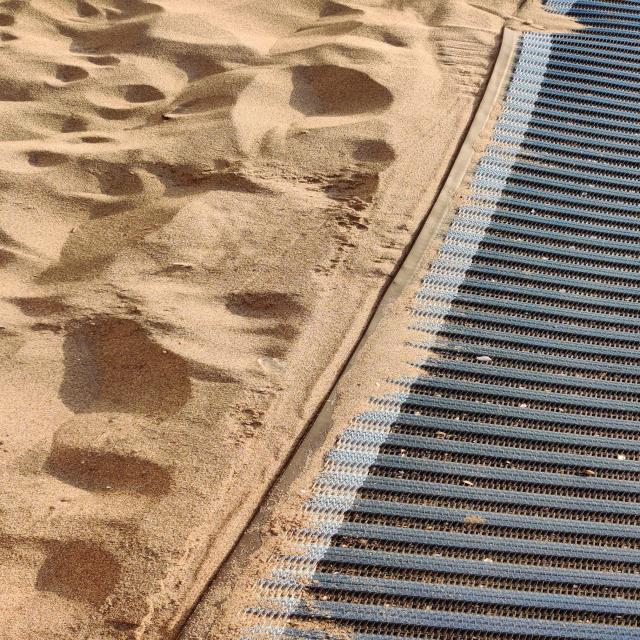litter: (409, 3, 634, 354)
